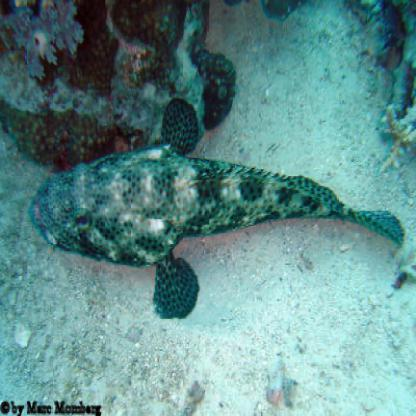Serranidae -Groupers-: (26, 91, 409, 323)
